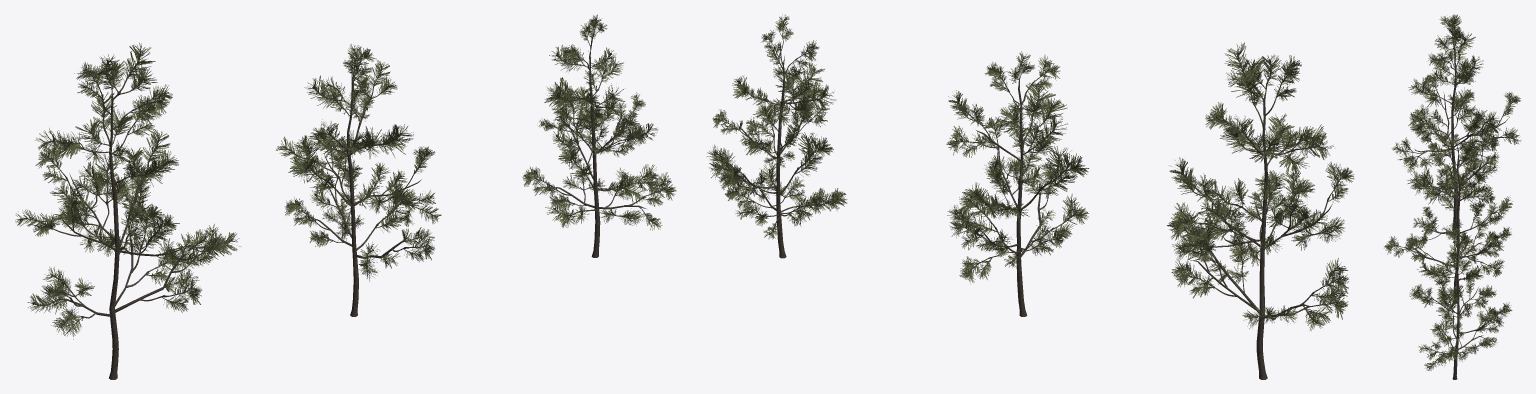
Rendered from pine.glb.
3 renders of one model, left to right at view 1: azimuth 30°, elevation 25°; view 2: azimuth 150°, elevation 25°; view 3: azimuth 270°, elevation 25°, orthographic. The views are drawn at different scales.
Parts seen in each view (by area): view 1: pine_sapling_small_a, pine_sapling_small_b, pine_sapling_small_c; view 2: pine_sapling_small_a, pine_sapling_small_b, pine_sapling_small_c; view 3: pine_sapling_small_a, pine_sapling_small_b, pine_sapling_small_c.
Part boxes in pixels (left/top/right/bottom): pine_sapling_small_a: left=15, top=43, right=240, bottom=379; pine_sapling_small_b: left=276, top=44, right=441, bottom=316; pine_sapling_small_c: left=522, top=14, right=676, bottom=257; pine_sapling_small_a: left=1167, top=42, right=1354, bottom=379; pine_sapling_small_b: left=946, top=51, right=1088, bottom=316; pine_sapling_small_c: left=707, top=14, right=847, bottom=258; pine_sapling_small_a: left=1391, top=14, right=1521, bottom=229; pine_sapling_small_b: left=1384, top=133, right=1512, bottom=304; pine_sapling_small_c: left=1409, top=222, right=1512, bottom=379.
Bounding box in the file's own units: 2.64 × 1.3 × 0.7703.
2 materials, 2 textured.
